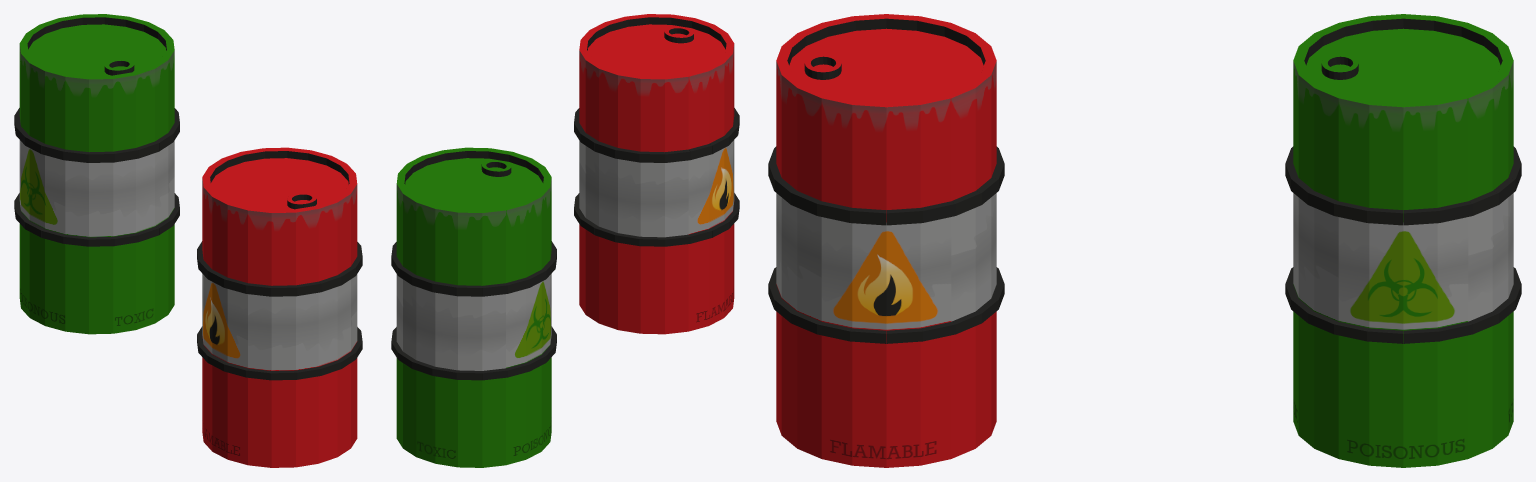
File: Explosive and Toxic Barrel.fbx
3 renders of one model, left to right at view 1: azimuth 30°, elevation 25°; view 2: azimuth 150°, elevation 25°; view 3: azimuth 270°, elevation 25°, orthographic. The views are drawn at different scales.
Visible parts, largest first — view 1: pCylinder5, pCylinder6; view 2: pCylinder6, pCylinder5; view 3: pCylinder5, pCylinder6.
Boxes of the visible parts, <box> form: pCylinder5: <box>197,147,362,467</box>; pCylinder6: <box>14,14,179,334</box>; pCylinder6: <box>391,147,556,467</box>; pCylinder5: <box>574,14,739,334</box>; pCylinder5: <box>768,14,1004,467</box>; pCylinder6: <box>1285,14,1521,467</box>.
Size of the model in its own units: 0.6754 by 1.14 by 2.16.
2 materials, 2 textured.
